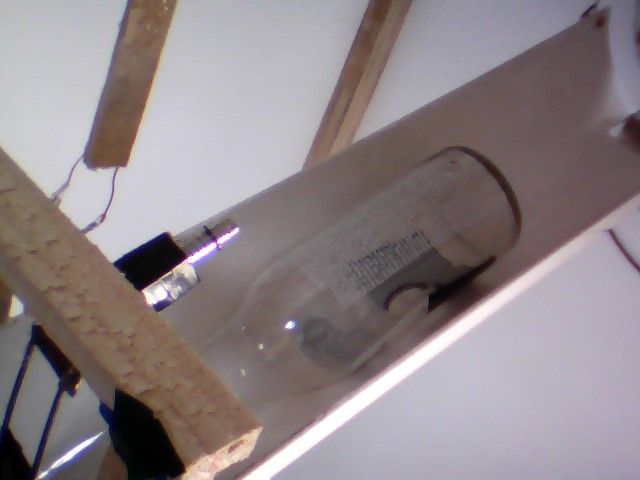vidrio: (191, 140, 529, 410)
